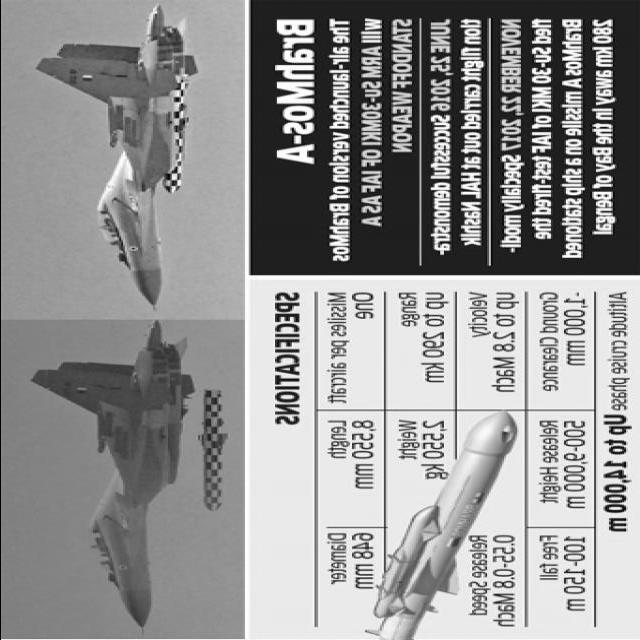Missile: (188, 387, 232, 514)
